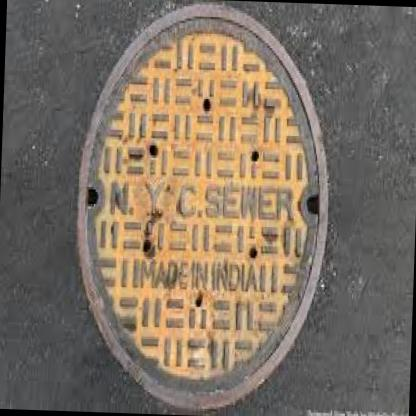manholes: (39, 0, 367, 416)
